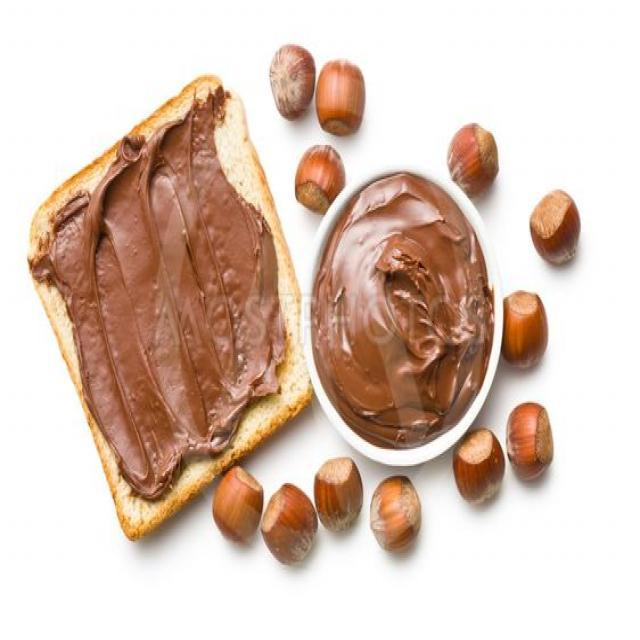Spread: (34, 108, 292, 476)
